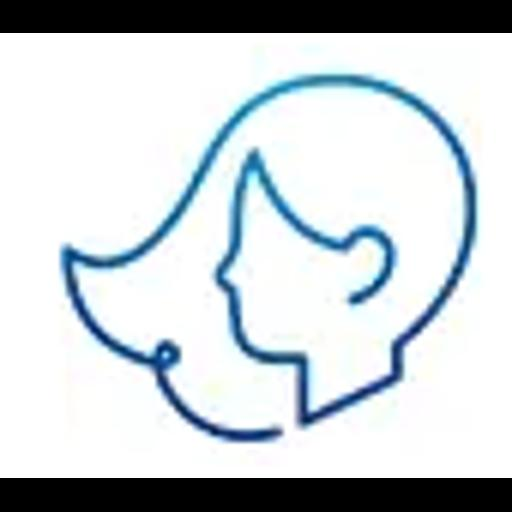PayPal: (0, 33, 512, 478)
